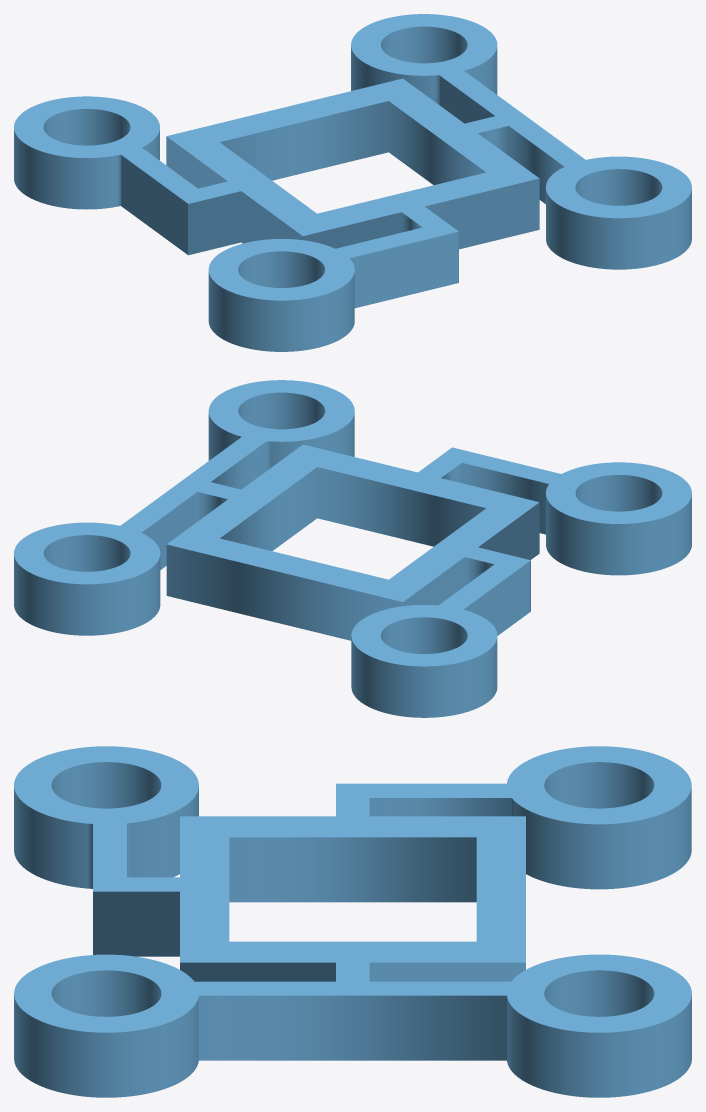
3 renders of one model, top to bottom at view 1: azimuth 30°, elevation 25°; view 2: azimuth 150°, elevation 25°; view 3: azimuth 270°, elevation 25°, orthographic. The views are drawn at different scales.
Visible parts, largest first — view 1: Curve.003; view 2: Curve.003; view 3: Curve.003.
Part boxes in pixels (left/top/right/bottom): Curve.003: left=14, top=14, right=691, bottom=351; Curve.003: left=14, top=380, right=691, bottom=717; Curve.003: left=14, top=746, right=691, bottom=1097.
Size of the model in its own units: 2.84 by 0.3 by 2.84.
